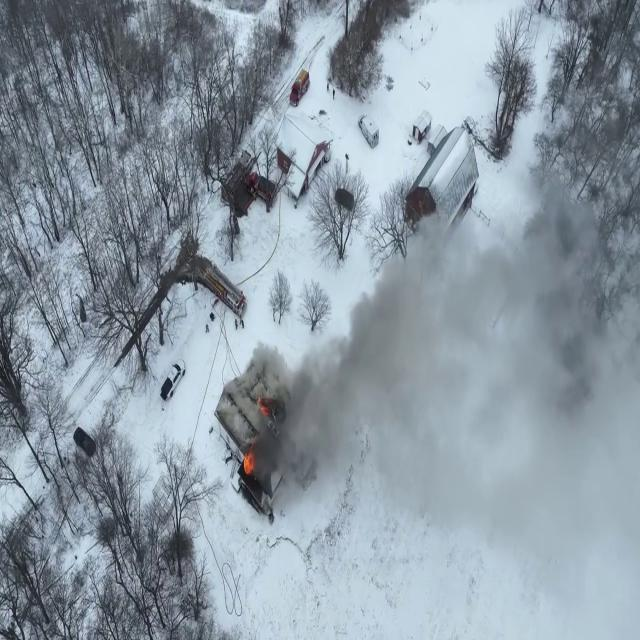Smoke: (268, 44, 640, 630)
